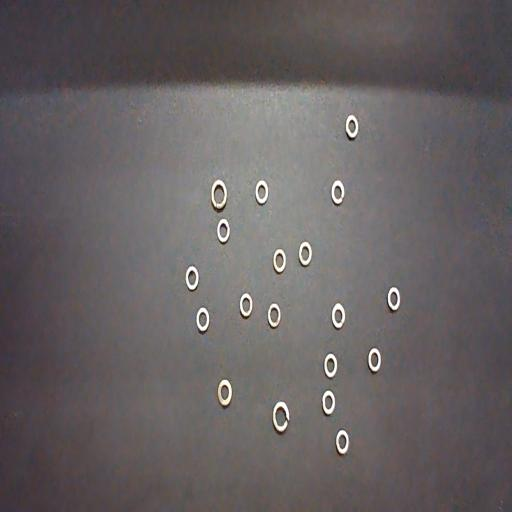washer: (272, 401, 290, 433), (211, 179, 227, 210), (218, 380, 232, 406), (330, 180, 344, 205), (186, 266, 200, 291), (335, 430, 349, 455), (298, 242, 312, 266), (331, 304, 345, 328), (323, 354, 337, 378), (196, 307, 209, 332), (368, 348, 381, 373), (255, 180, 268, 204), (217, 219, 230, 243), (273, 249, 286, 273), (322, 391, 335, 415), (387, 286, 400, 310), (268, 303, 280, 328), (240, 293, 252, 317), (346, 115, 358, 138)
